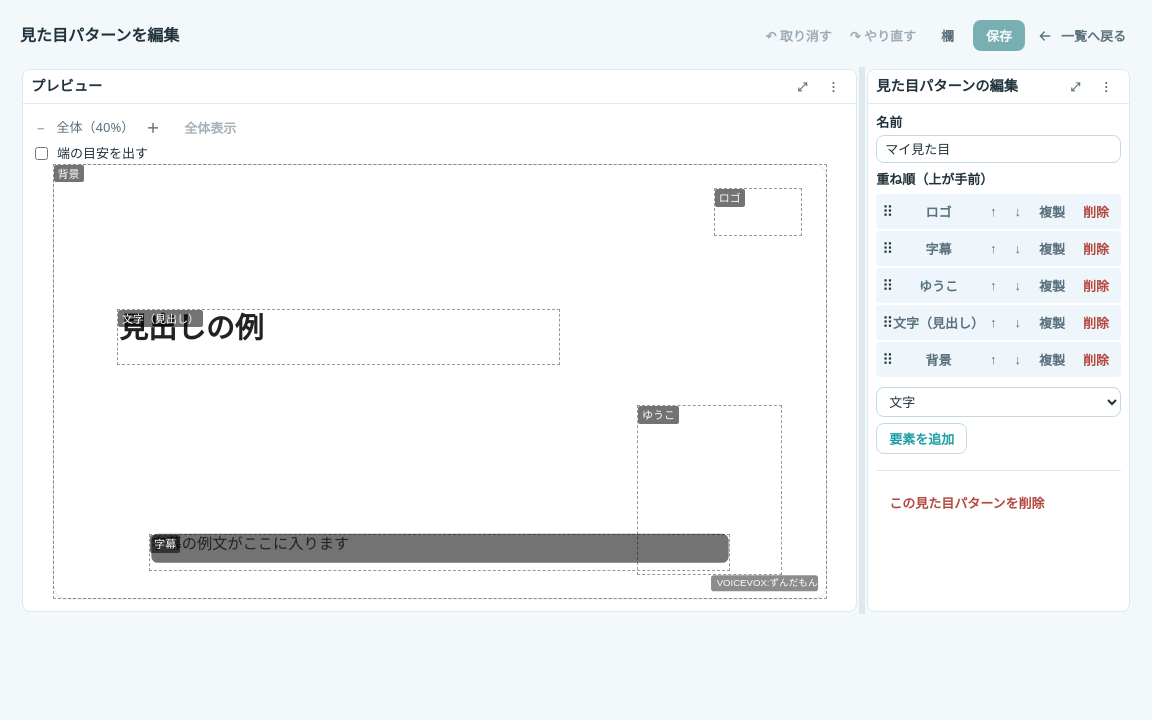
it: LooksEditScreen 削除の busy 表示（#410 sub4 レビュー） › 削除中は「削除中…」＋確認ボタン無効（DeleteConfirm に busy 配線）
What coordinates should you click on to do the following:
click the button "この見た目パターンを削除"
I would click on:
 (967, 502)
Its box is [876,487,1058,518].
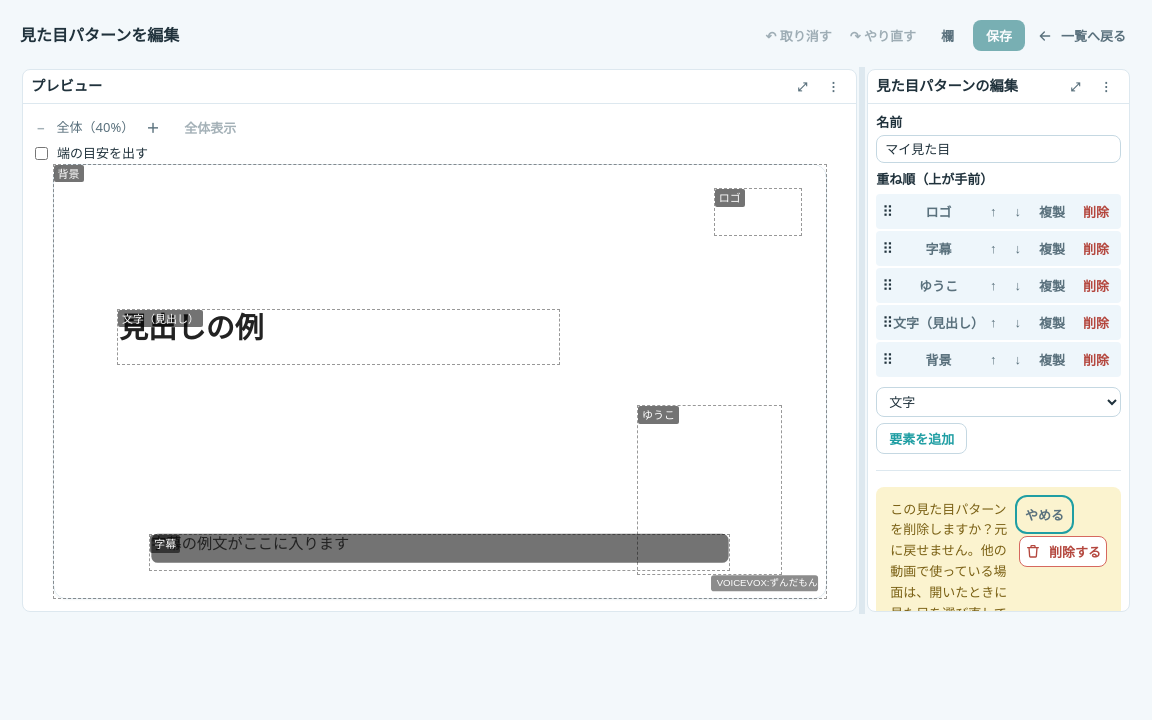
What coordinates should you click on to do the following:
click the button "削除する"
I would click on:
 (1063, 551)
Its box is [1019,536,1107,567].
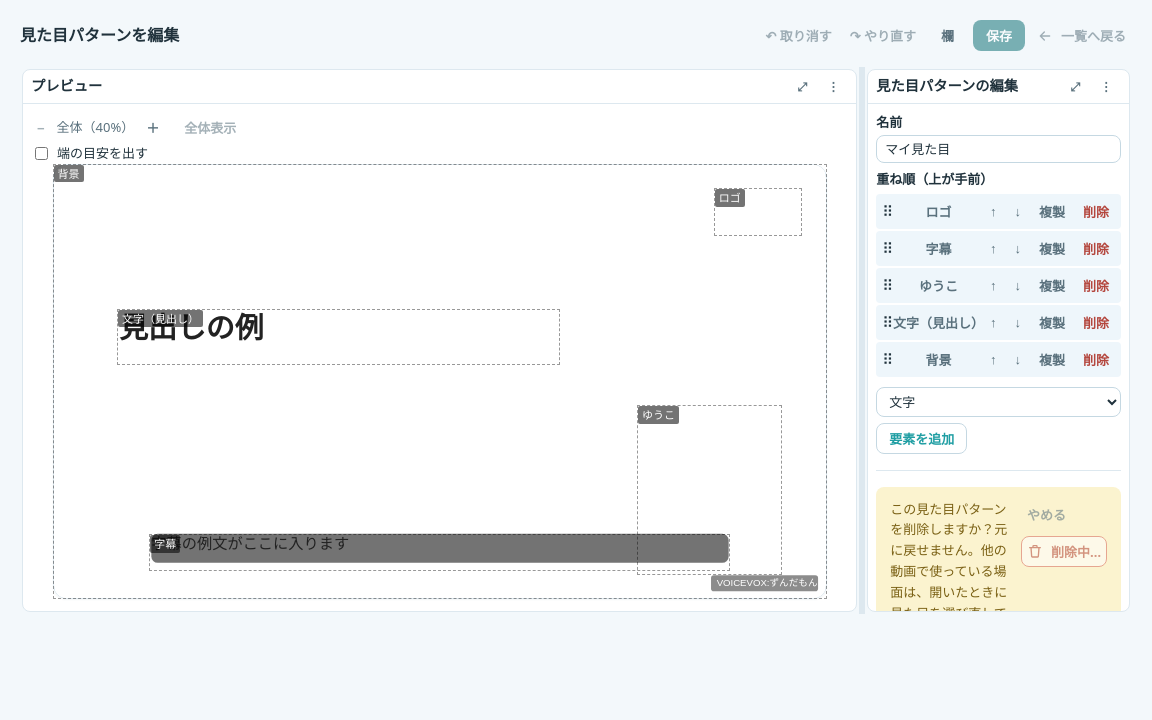
Result: the button "削除中…" is disabled at [1021,536,1107,567]
Result: the button "一覧へ戻る" is disabled at [1031,20,1132,51]
